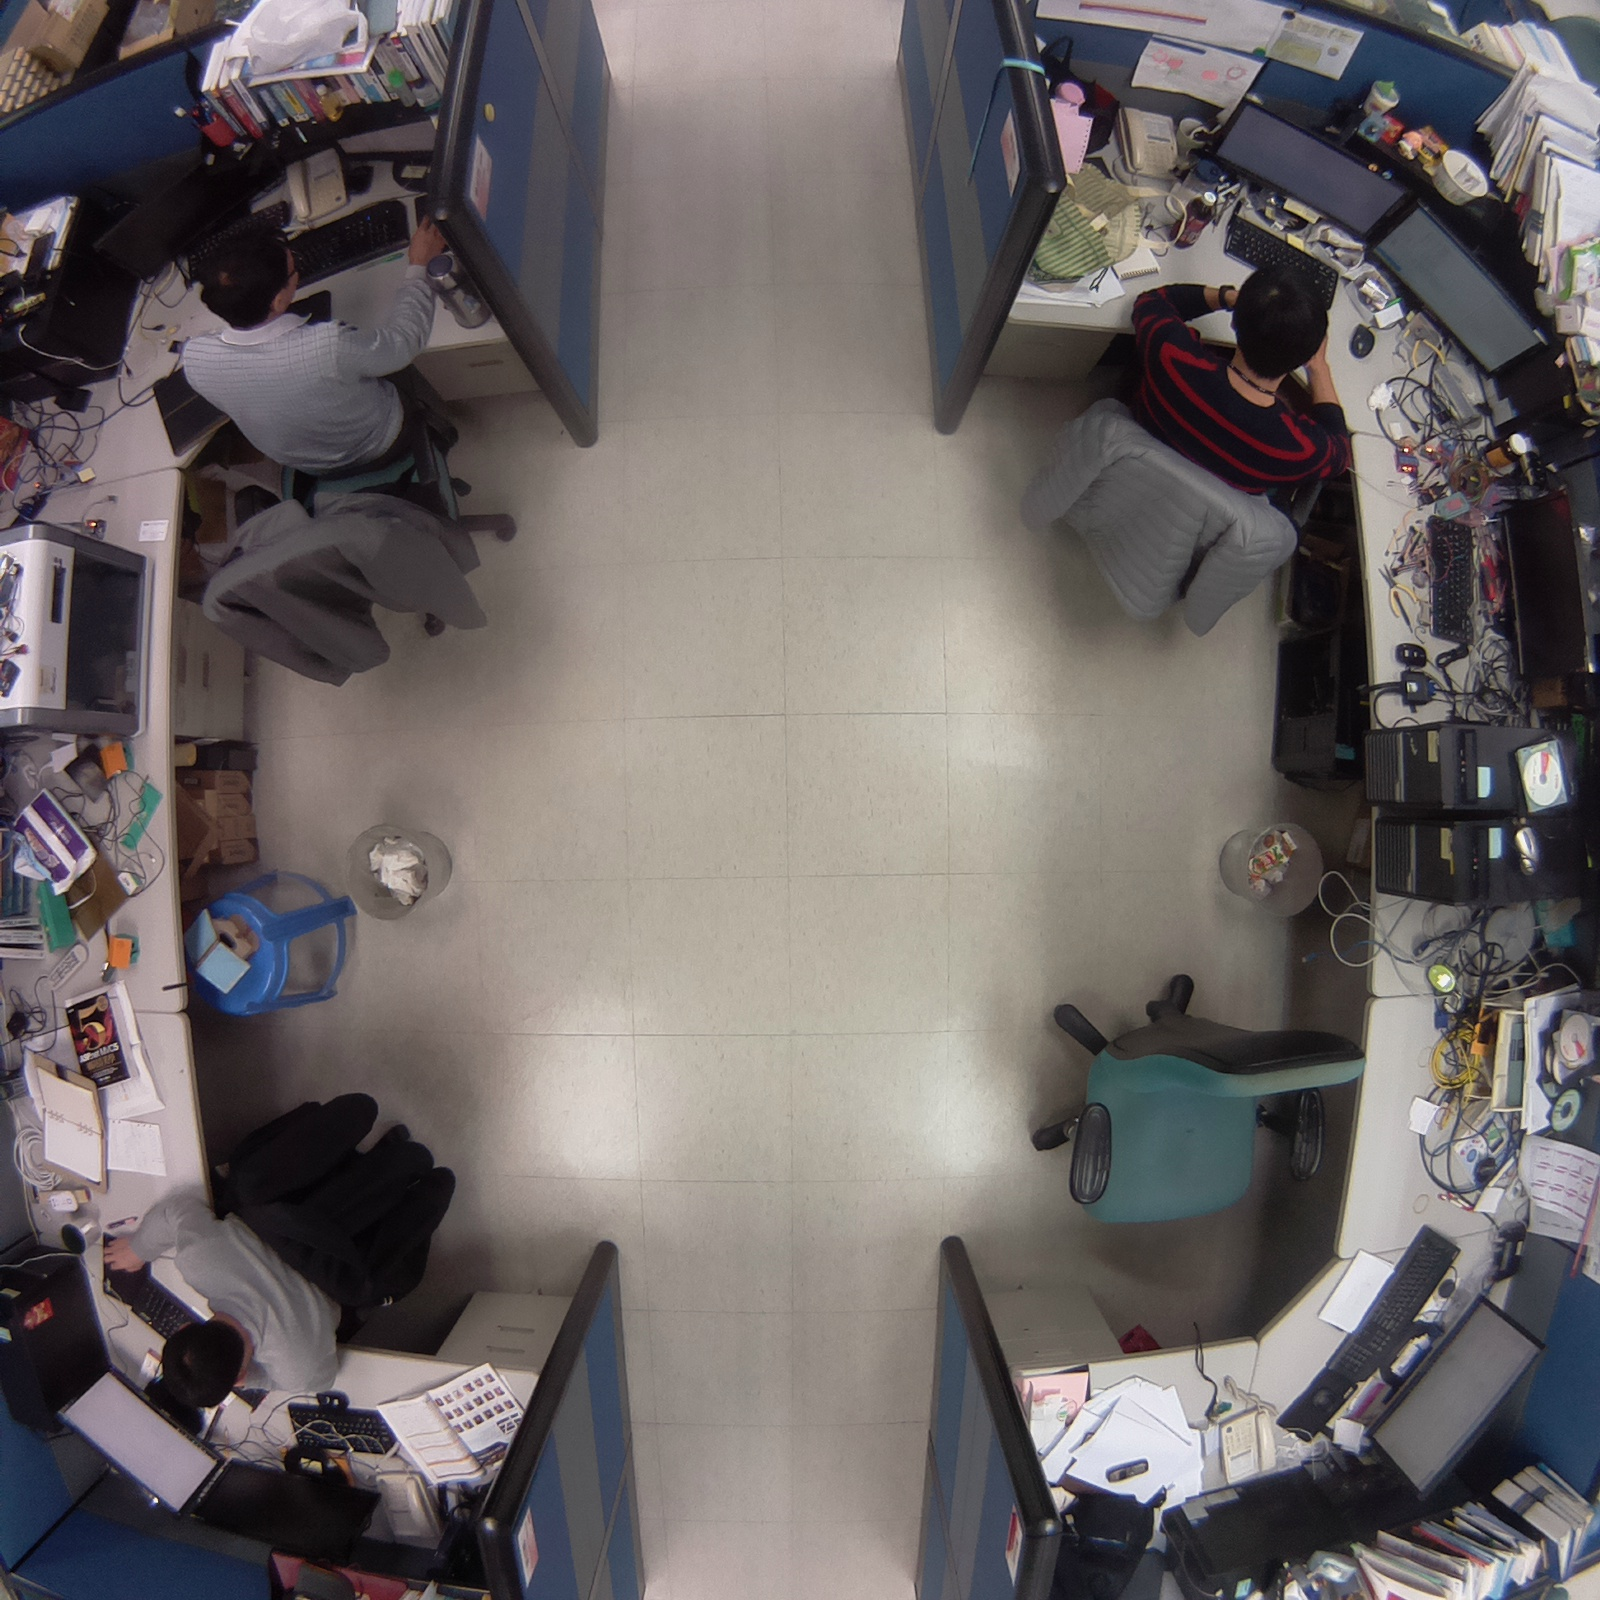chair: (1006, 960, 1378, 1245)
head: (189, 208, 304, 329), (1229, 251, 1336, 380), (155, 1312, 255, 1419)
sitting: (160, 204, 537, 688), (88, 1070, 494, 1427), (1004, 247, 1345, 650)
